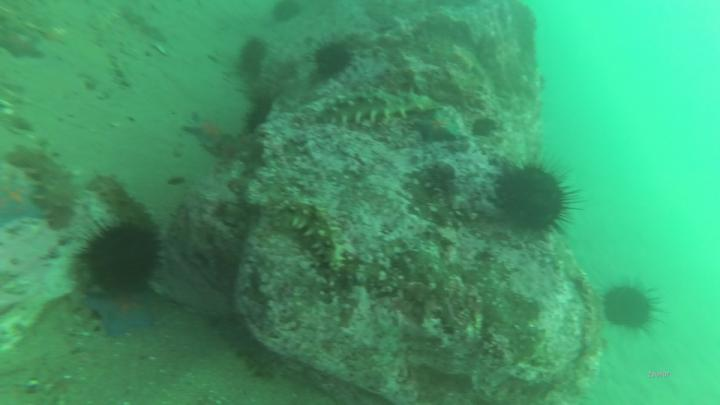echinus: (85, 228, 160, 292), (504, 166, 568, 235), (607, 286, 654, 332), (315, 46, 352, 73), (242, 43, 264, 69), (277, 3, 298, 23)
holothurian: (10, 153, 77, 228), (281, 203, 351, 273), (324, 88, 425, 121), (88, 177, 149, 227), (421, 170, 458, 226), (578, 274, 603, 352)
starfish: (90, 301, 155, 337), (4, 180, 36, 229), (420, 112, 462, 140), (187, 118, 223, 146)
